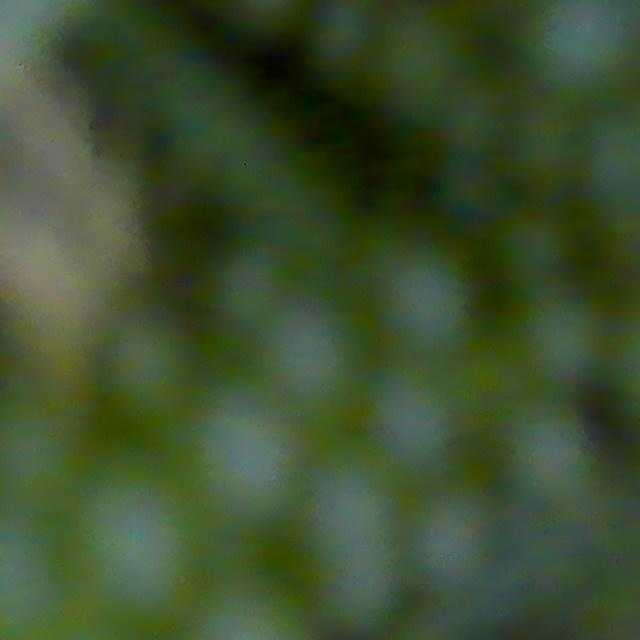SeaGrape: (71, 481, 215, 624), (167, 402, 306, 533), (245, 303, 354, 414), (370, 245, 475, 356), (522, 0, 640, 93), (302, 453, 400, 558), (368, 365, 464, 466), (104, 318, 197, 418), (406, 488, 499, 585), (500, 414, 593, 510), (521, 293, 610, 385), (319, 547, 402, 635), (210, 245, 293, 329), (309, 0, 387, 76)
